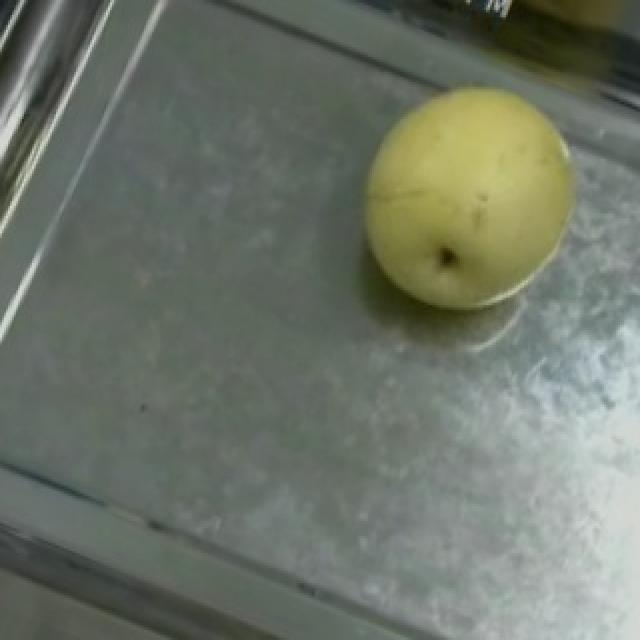Fruit: (312, 37, 622, 350)
